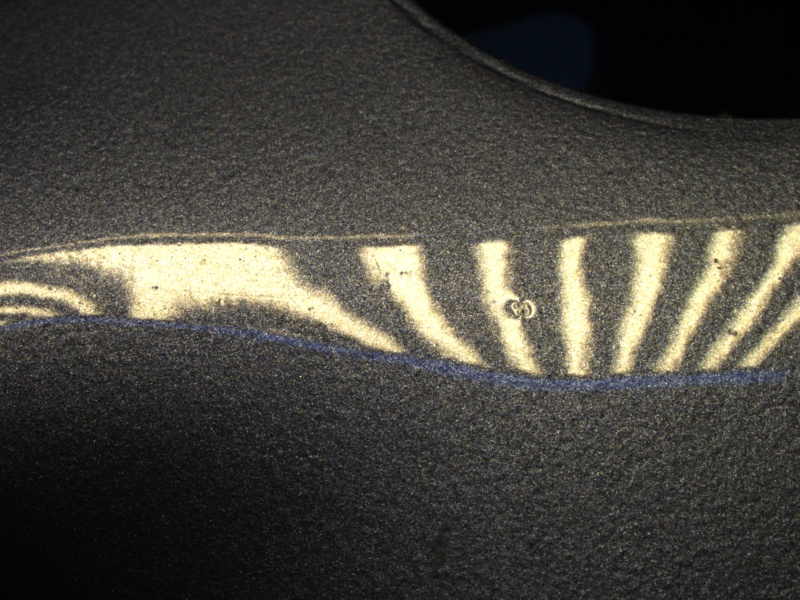bad: (501, 290, 540, 324)
